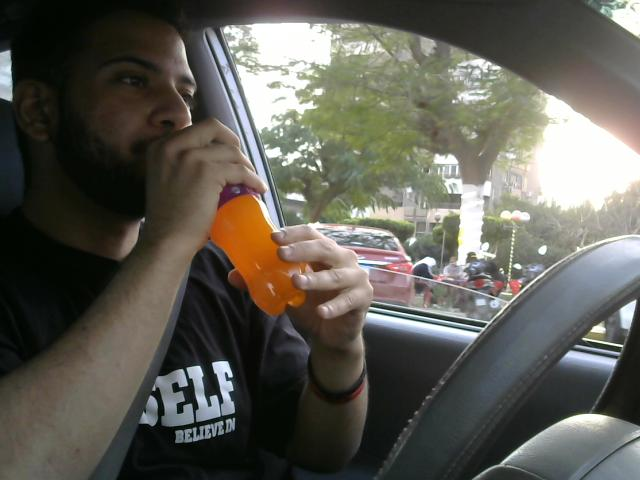Drinking: (19, 12, 303, 313)
